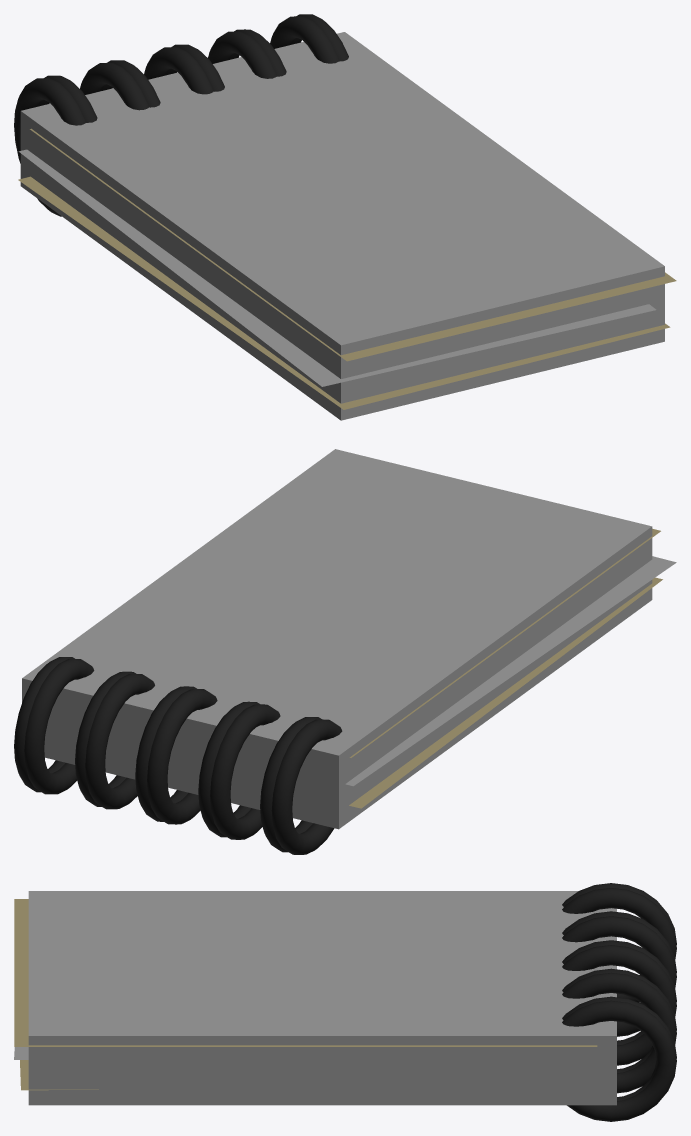
File: memo.FBX
3 views of the same model, one above another, from view 1: azimuth 30°, elevation 25°; view 2: azimuth 150°, elevation 25°; view 3: azimuth 270°, elevation 25° (orthographic). The views are drawn at different scales.
Visible parts, largest first — view 1: Box001; view 2: Box001; view 3: Box001.
Part boxes in pixels (left/top/right/bottom): Box001: left=14, top=14, right=676, bottom=420; Box001: left=14, top=449, right=676, bottom=854; Box001: left=14, top=883, right=676, bottom=1121.
Bounding box in the file's own units: 28.73 × 10.17 × 51.29.
